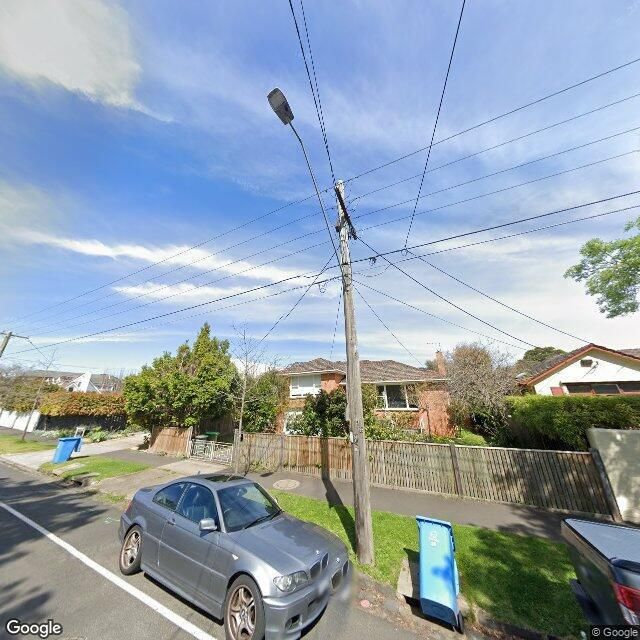crossarm: (335, 187, 356, 240), (0, 332, 28, 339)
streetlight: (267, 88, 347, 293)
timber-pole: (337, 180, 374, 565), (0, 331, 12, 357)
